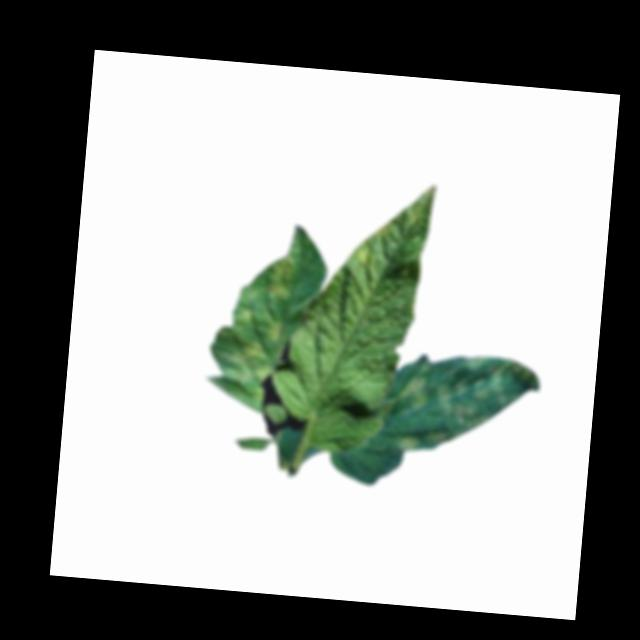Leaf_Mold: (372, 343, 542, 463), (226, 246, 296, 385), (350, 245, 374, 268)
